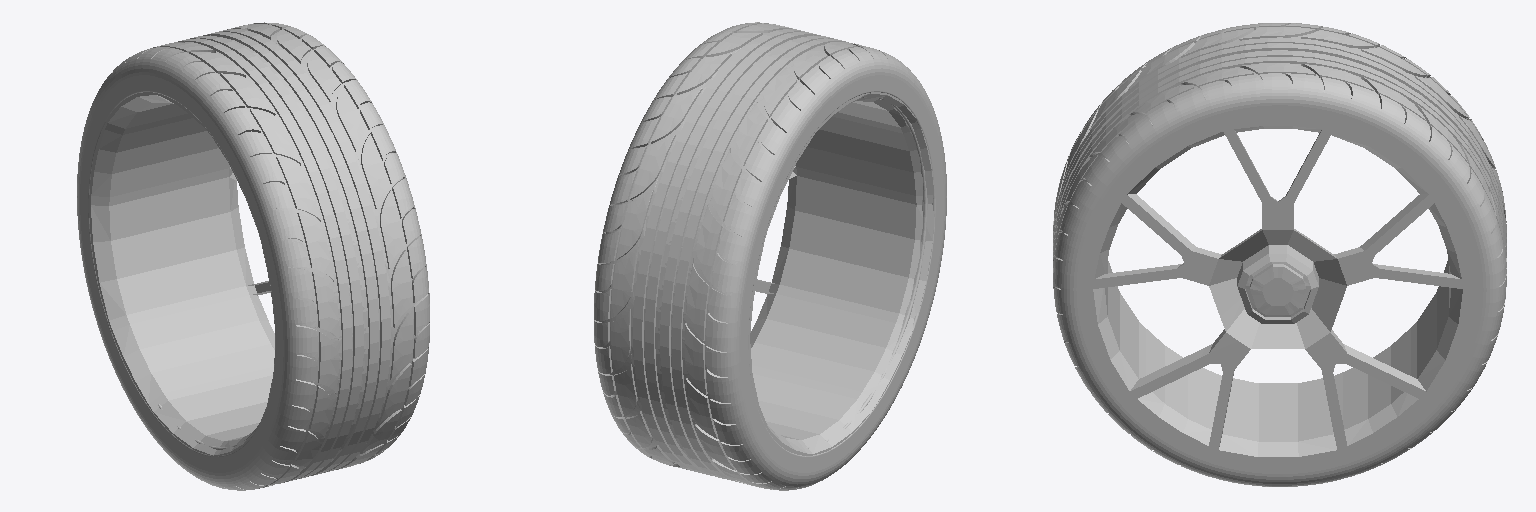
The model's file is Tire.obj.
3 renders of one model, left to right at view 1: azimuth 30°, elevation 25°; view 2: azimuth 150°, elevation 25°; view 3: azimuth 270°, elevation 25°, orthographic.
Visible parts, largest first — view 1: Tire; view 2: Tire; view 3: Tire.
Part boxes in pixels (bbox=[...]): Tire: bbox=[77, 22, 429, 490]; Tire: bbox=[594, 22, 946, 490]; Tire: bbox=[1053, 23, 1506, 486].
Bounding box in the file's own units: 0.22 × 0.5836 × 0.5836.